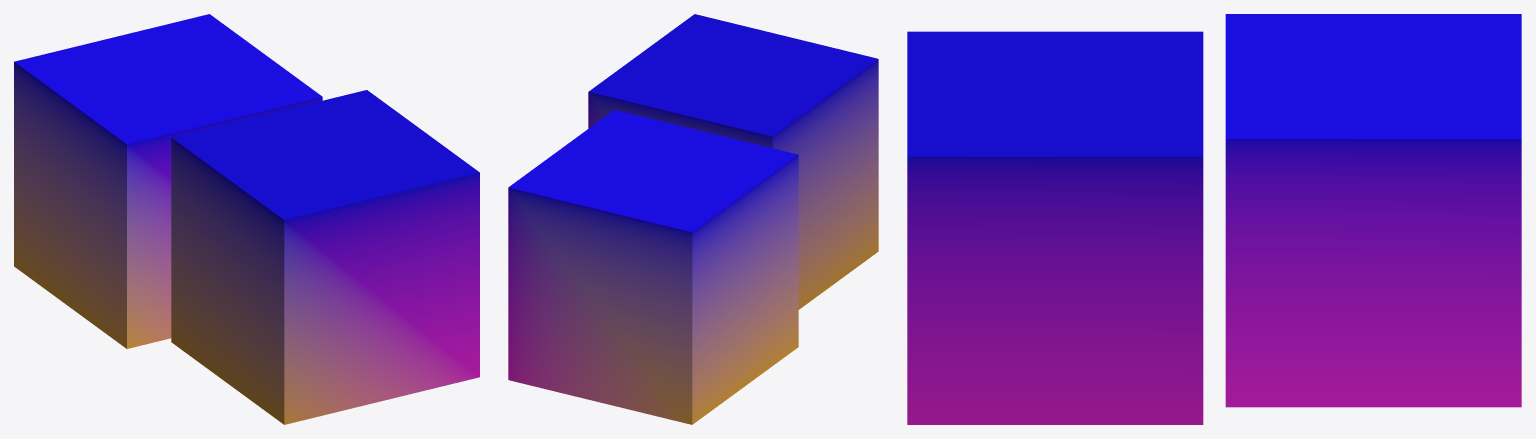
Rendered from ColorCube.gltf.
The picture shows the model from 3 angles, left to right: view 1: azimuth 30°, elevation 25°; view 2: azimuth 150°, elevation 25°; view 3: azimuth 270°, elevation 25°; orthographic projection. The views are drawn at different scales.
Visible parts, largest first — view 1: Cube, Cube.001; view 2: Cube.001, Cube; view 3: Cube, Cube.001.
Boxes of the visible parts, <box> form: Cube: <box>171,90,479,424</box>; Cube.001: <box>14,14,322,348</box>; Cube.001: <box>508,110,798,424</box>; Cube: <box>588,14,878,309</box>; Cube: <box>907,31,1203,424</box>; Cube.001: <box>1225,14,1521,407</box>.
Bounding box in the file's own units: 2.37 × 2.04 × 4.15.
